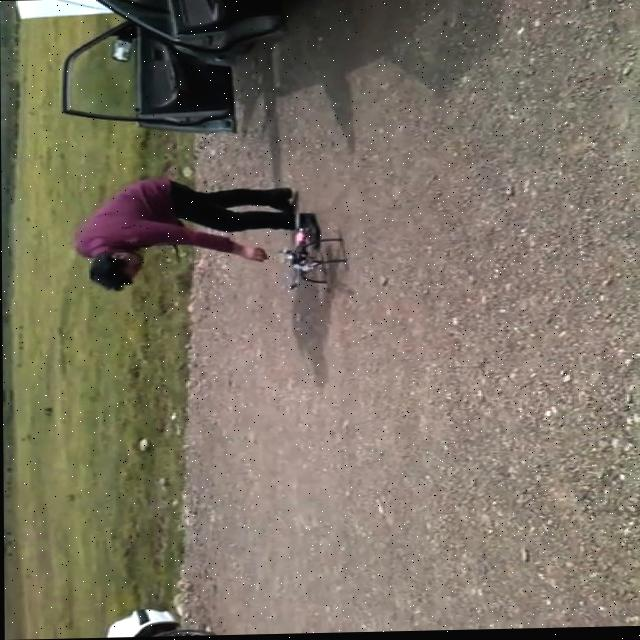drone: (268, 224, 343, 294)
